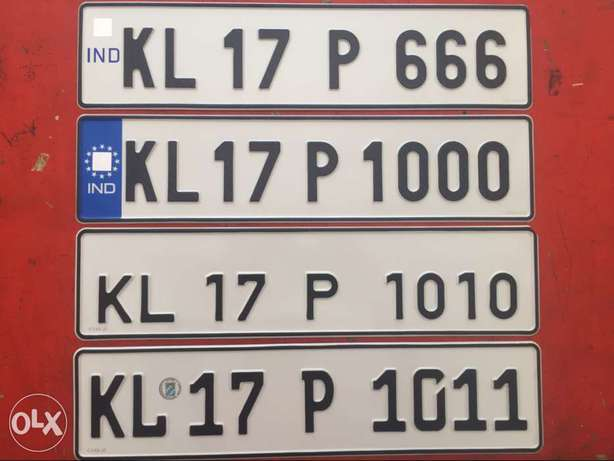inlp: (70, 220, 546, 348), (66, 344, 553, 456), (72, 111, 541, 227), (71, 1, 545, 112)
